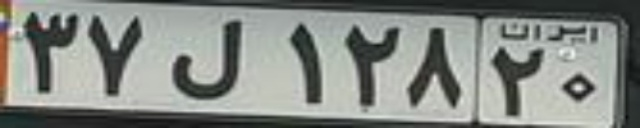0: (554, 69, 600, 103)
1: (285, 22, 322, 104)
2: (341, 23, 398, 107), (488, 47, 543, 117)
3: (21, 9, 80, 93)
7: (86, 13, 147, 97)
8: (403, 24, 470, 108)
lam: (168, 19, 246, 102)
